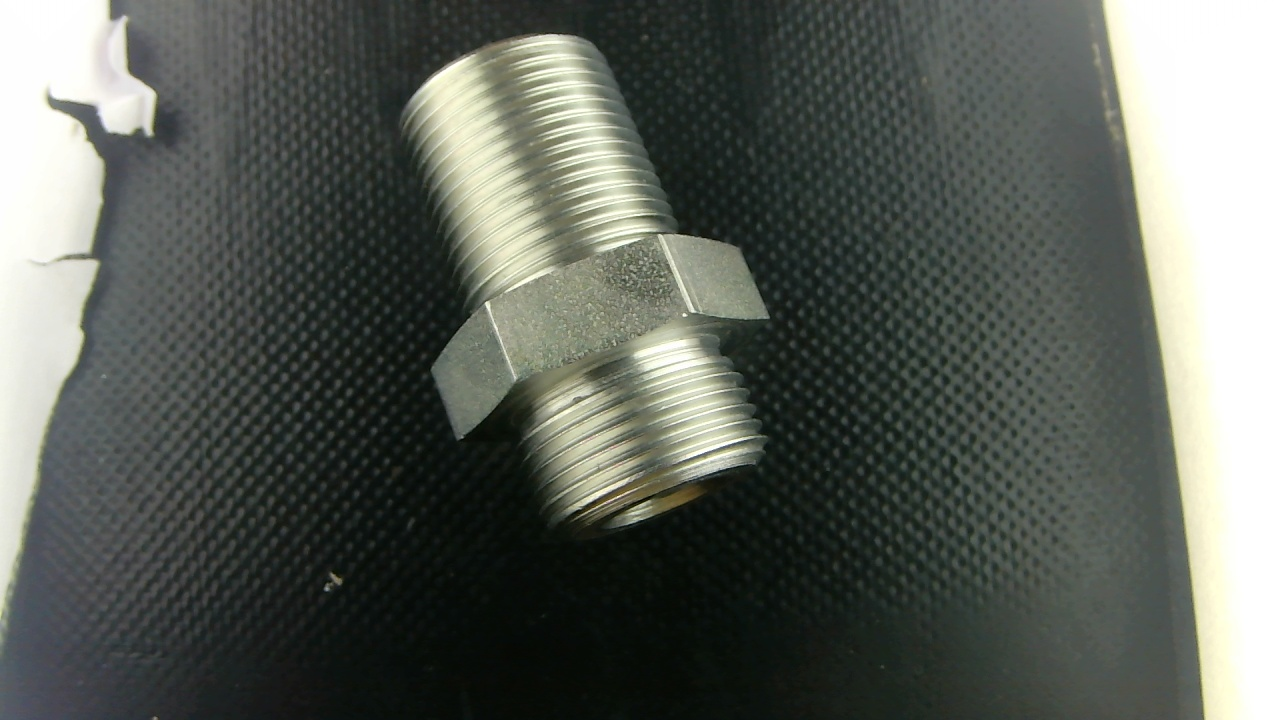okay_adapter: (402, 34, 766, 532)
